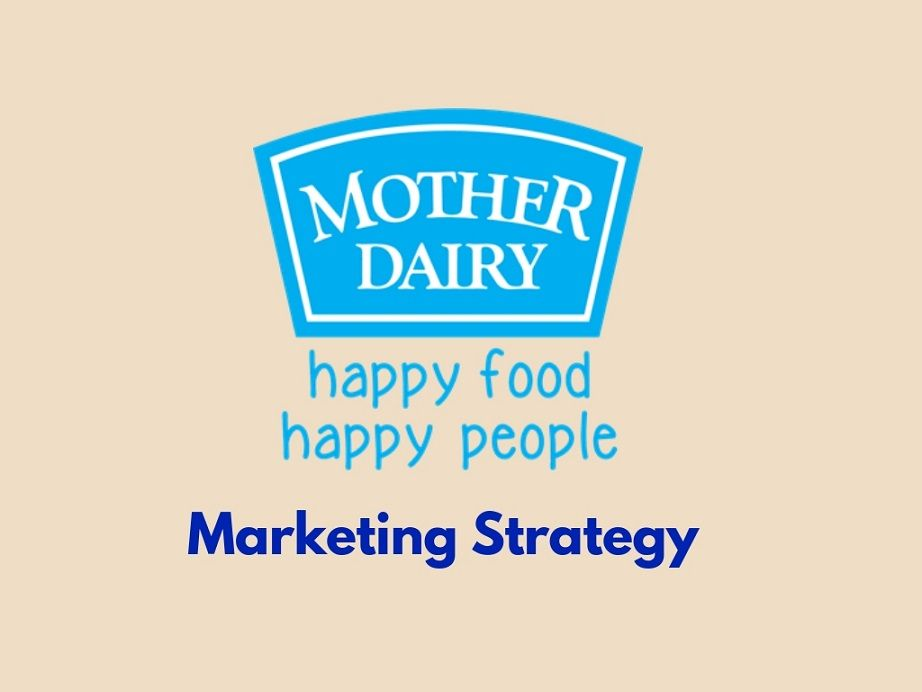Mother_Dairy: (241, 109, 658, 348)
